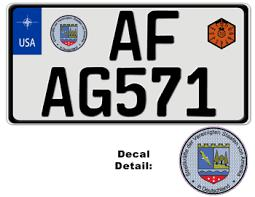1: (185, 66, 219, 118)
5: (113, 66, 148, 117)
7: (151, 66, 181, 118)
A: (40, 66, 75, 117), (108, 10, 142, 62)
F: (143, 9, 181, 65)
G: (77, 65, 113, 118)
